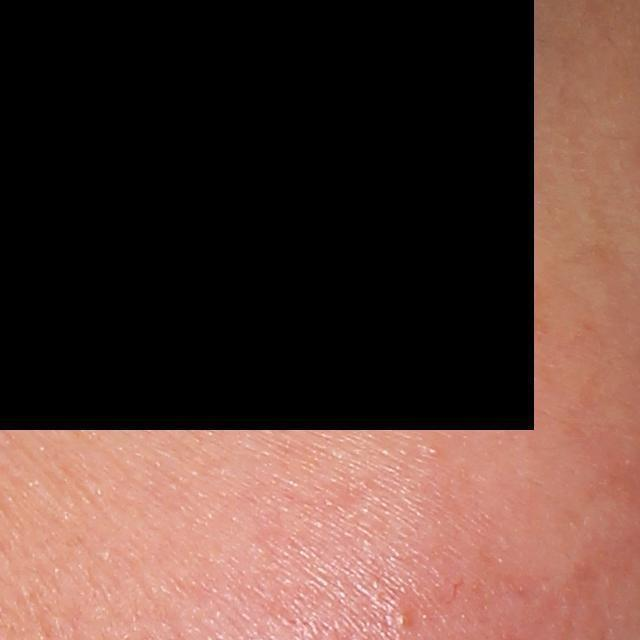comedo: (395, 611, 410, 629)
